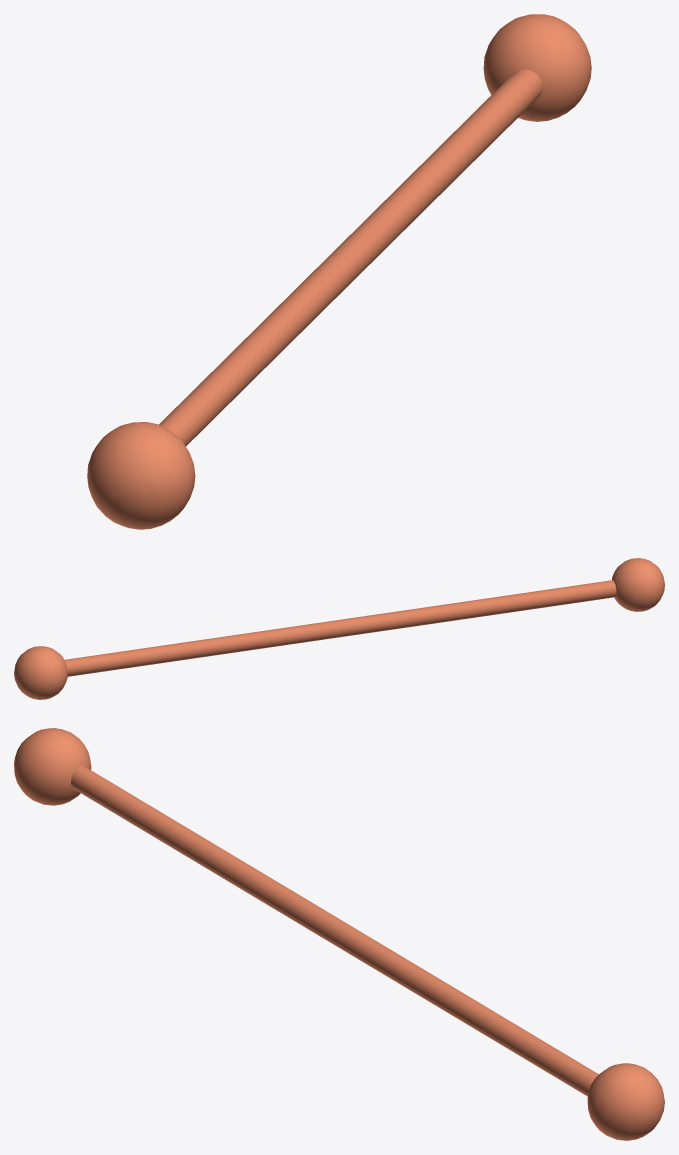
File: line_brown.glb
3 renders of one model, top to bottom at view 1: azimuth 30°, elevation 25°; view 2: azimuth 150°, elevation 25°; view 3: azimuth 270°, elevation 25°, orthographic. The views are drawn at different scales.
Parts seen in each view (by area): view 1: NurbsPath.002, Sphere.006_Sphere.011, Sphere.005; view 2: NurbsPath.002, Sphere.005, Sphere.006_Sphere.011; view 3: NurbsPath.002, Sphere.005, Sphere.006_Sphere.011.
Boxes of the visible parts, x1=… form: NurbsPath.002: x1=159, y1=69, x2=542, y2=446; Sphere.006_Sphere.011: x1=87, y1=422, x2=195, y2=529; Sphere.005: x1=483, y1=14, x2=591, y2=121; NurbsPath.002: x1=64, y1=580, x2=616, y2=676; Sphere.005: x1=14, y1=646, x2=67, y2=699; Sphere.006_Sphere.011: x1=612, y1=558, x2=664, y2=611; NurbsPath.002: x1=71, y1=766, x2=598, y2=1096; Sphere.005: x1=587, y1=1063, x2=664, y2=1140; Sphere.006_Sphere.011: x1=14, y1=728, x2=91, y2=805.
Size of the model in its own units: 1.6 by 0.3032 by 1.42.
